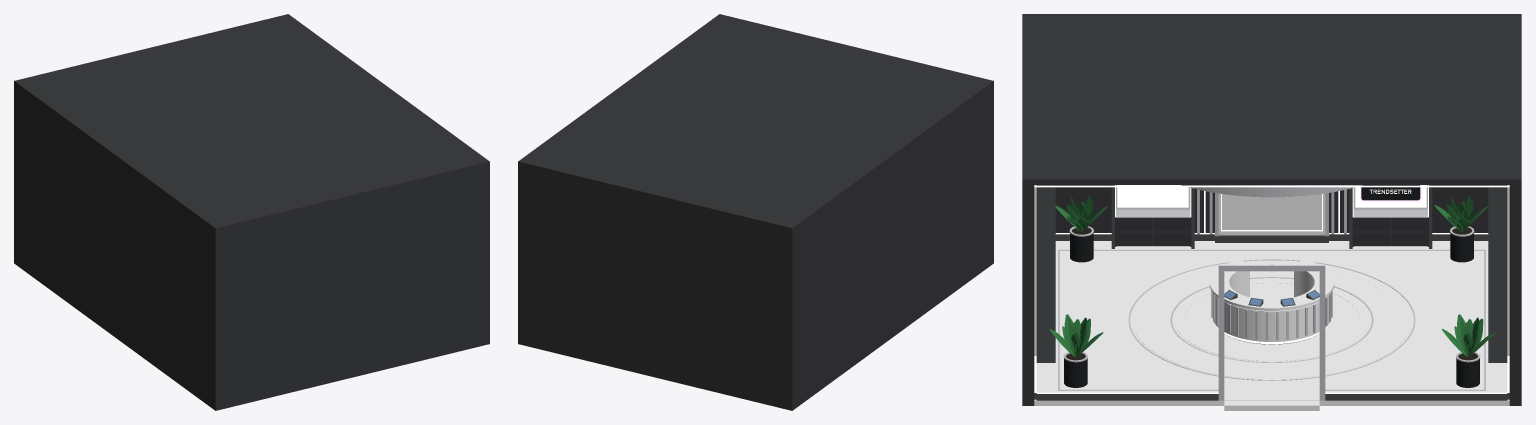
Rendered from SMB_Shop.glb.
3 renders of one model, left to right at view 1: azimuth 30°, elevation 25°; view 2: azimuth 150°, elevation 25°; view 3: azimuth 270°, elevation 25°, orthographic. The views are drawn at different scales.
Visible parts, largest first — view 1: SHOP_Walls_Shell__MAT_Charcoal, SHOP_Ceiling_Slab__MAT_Charcoal; view 2: SHOP_Walls_Shell__MAT_Charcoal, SHOP_Ceiling_Slab__MAT_Charcoal; view 3: SHOP_Ceiling_Slab__MAT_Charcoal, SHOP_Floor_Base__MAT_SHOP_White_Marble, SHOP_Walls_Shell__MAT_Charcoal, SHOP_Floor_Base__MAT_Black_Marble, SHOP_Floor_Inlays__MAT_SHOP_Grey_Marble, SHOP_Floor_Inlays__MAT_Black_Marble, SHOP_Feature_Wall__MAT_Black_Marble, SHOP_Floor_Inlays__MAT_SHOP_Brushed_Silver, SHOP_Bay_Aura__MAT_SHOP_Dark_Metal, SHOP_Bay_VIP_Passes__MAT_SHOP_Dark_Metal, SHOP_Counter__MAT_Black_Marble, SHOP_Wall_Finishes__MAT_SHOP_Dark_Metal (+25 smaller).
Boxes of the visible parts, x1,y1,x2,y2 form: SHOP_Walls_Shell__MAT_Charcoal: [14, 14, 489, 410]; SHOP_Ceiling_Slab__MAT_Charcoal: [27, 17, 484, 222]; SHOP_Walls_Shell__MAT_Charcoal: [518, 14, 993, 410]; SHOP_Ceiling_Slab__MAT_Charcoal: [523, 17, 980, 222]; SHOP_Ceiling_Slab__MAT_Charcoal: [1034, 19, 1509, 184]; SHOP_Floor_Base__MAT_SHOP_White_Marble: [1060, 250, 1483, 389]; SHOP_Walls_Shell__MAT_Charcoal: [1022, 14, 1521, 405]; SHOP_Floor_Base__MAT_Black_Marble: [1034, 241, 1509, 410]; SHOP_Floor_Inlays__MAT_SHOP_Grey_Marble: [1141, 265, 1402, 375]; SHOP_Floor_Inlays__MAT_Black_Marble: [1131, 260, 1412, 400]; SHOP_Feature_Wall__MAT_Black_Marble: [1218, 193, 1325, 235]; SHOP_Floor_Inlays__MAT_SHOP_Brushed_Silver: [1058, 249, 1485, 400]; SHOP_Bay_Aura__MAT_SHOP_Dark_Metal: [1488, 185, 1507, 362]; SHOP_Bay_VIP_Passes__MAT_SHOP_Dark_Metal: [1036, 185, 1055, 362]; SHOP_Counter__MAT_Black_Marble: [1212, 271, 1331, 341]; SHOP_Wall_Finishes__MAT_SHOP_Dark_Metal: [1034, 234, 1509, 400].
Size of the model in its own units: 34 by 21 by 42.
